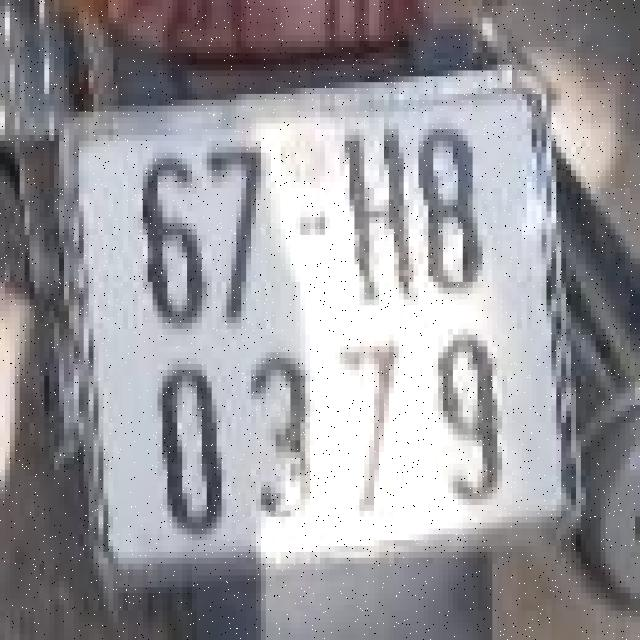0: (150, 361, 229, 537)
3: (246, 350, 315, 526)
6: (138, 150, 207, 326)
7: (332, 338, 406, 520), (212, 141, 276, 323)
8: (416, 118, 485, 294)
9: (430, 332, 510, 502)
H: (337, 120, 416, 314)
